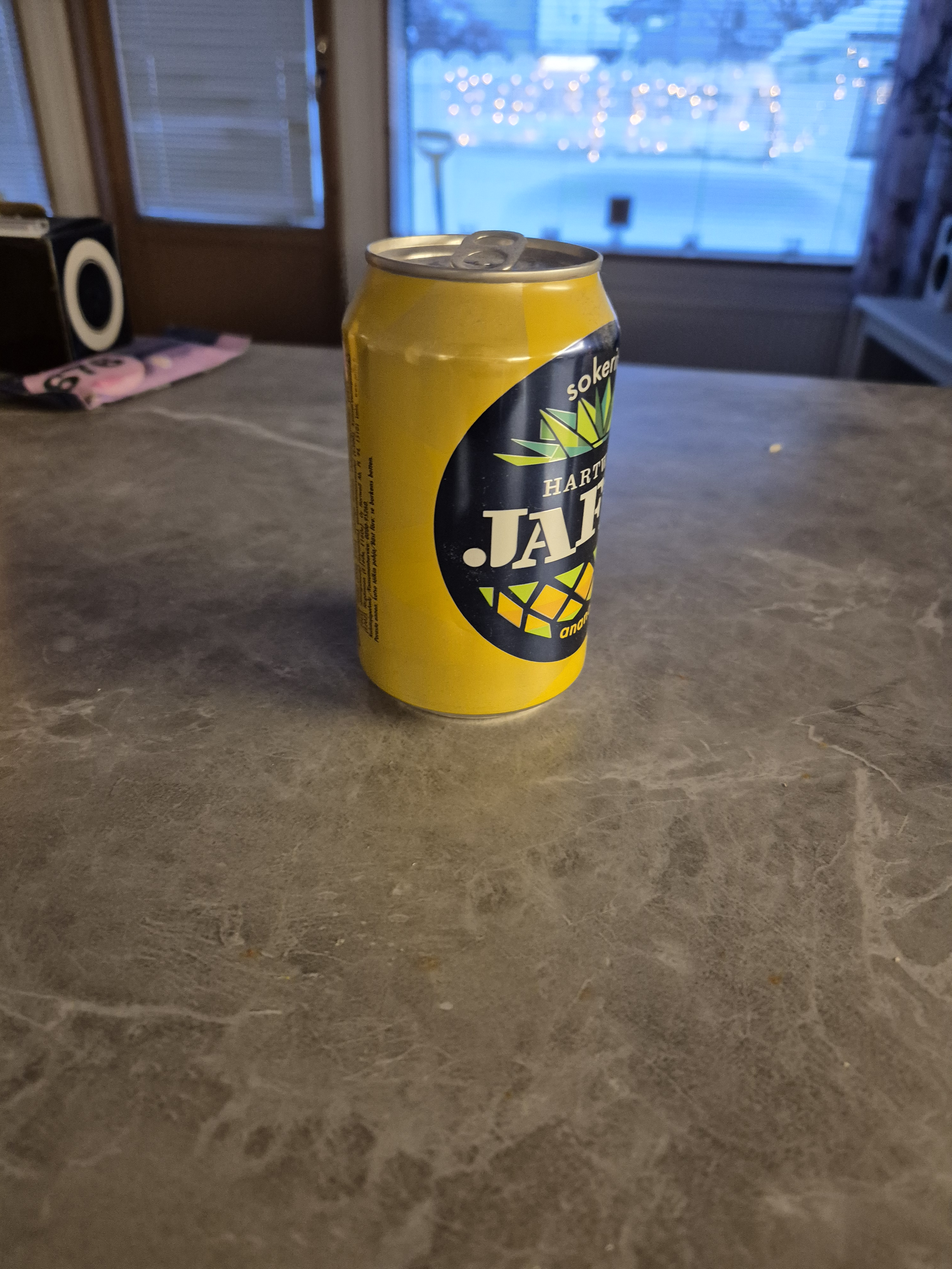Pantburk: (341, 229, 625, 724)
